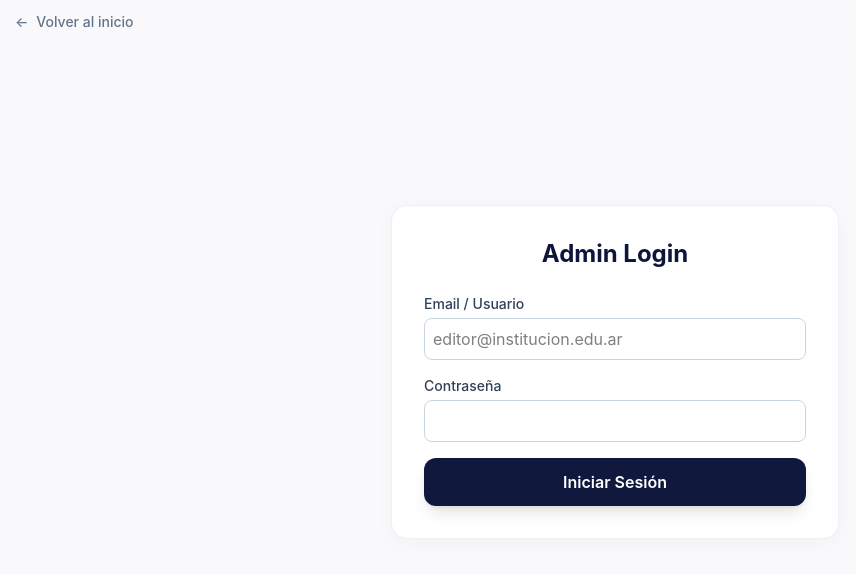
Scenario: Flujo de Login en LoginPage (Supabase Auth) › debe mostrar un mensaje de error si las credenciales son inválidas
Type "erroneo@test.com" into the field labelled "Email / Usuario" at (615, 339), box [424,318,806,360]
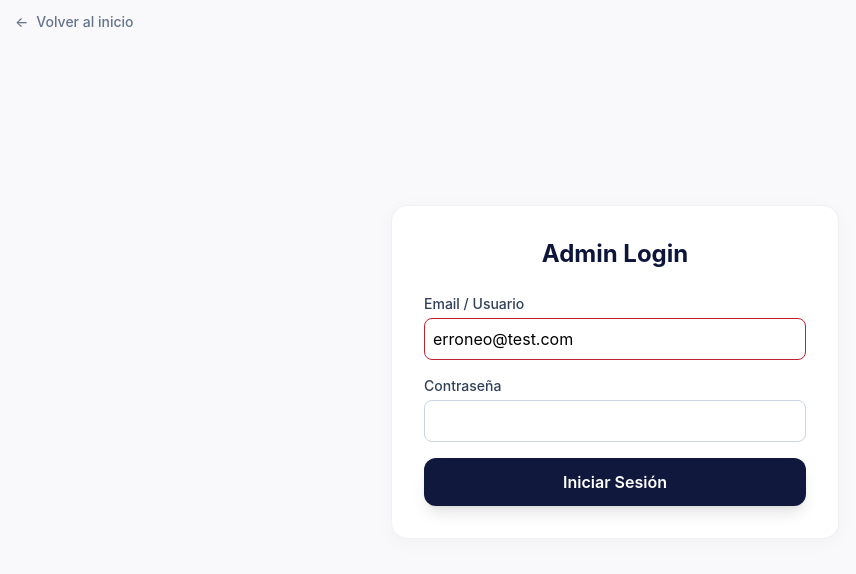
Type "wrong_pass" into the password field labelled "Contraseña" at (615, 421), box [424,400,806,442]
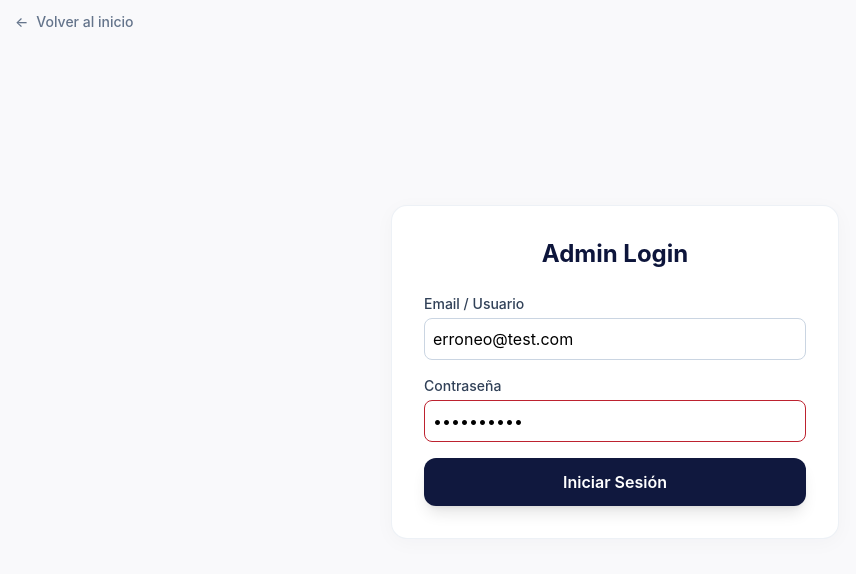
Click the button "Iniciar Sesión" at (615, 482), box [424,458,806,506]
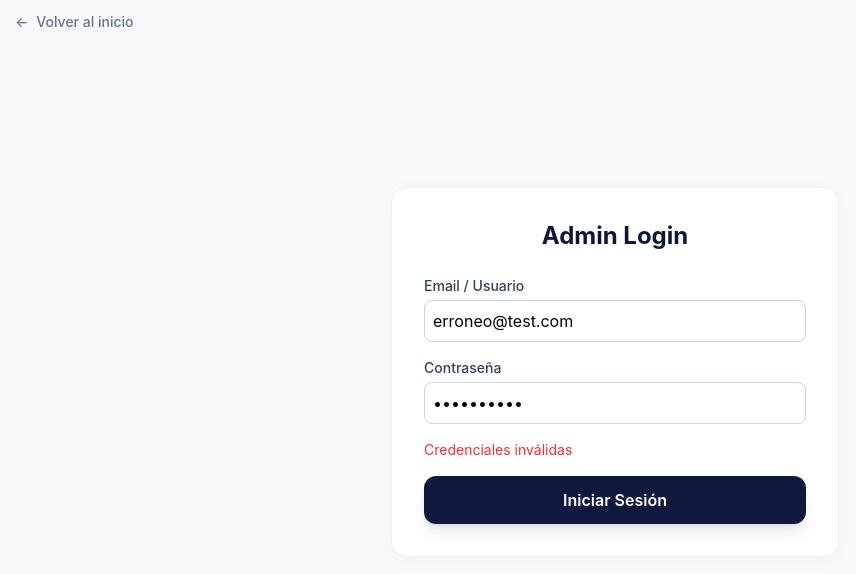
Expected: the message reads "Credenciales inválidas", [424,441,572,458]
